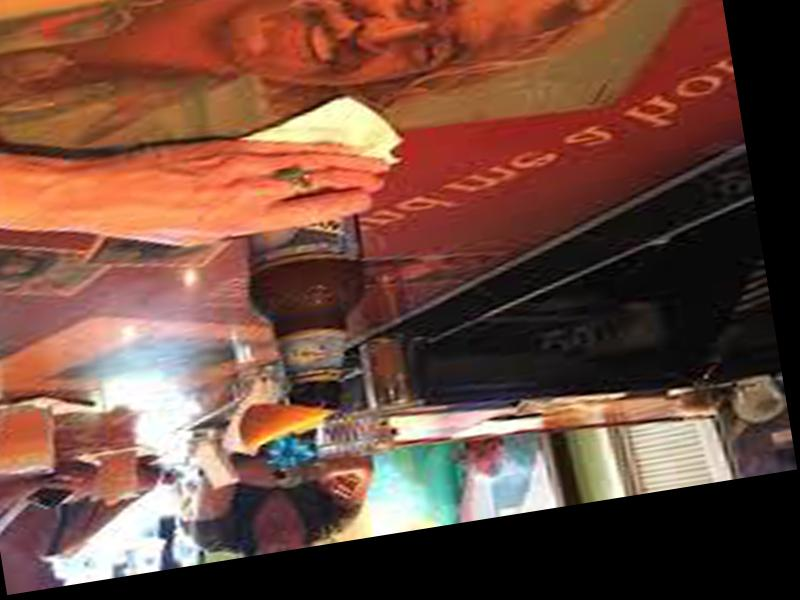Beer: (235, 137, 392, 424)
